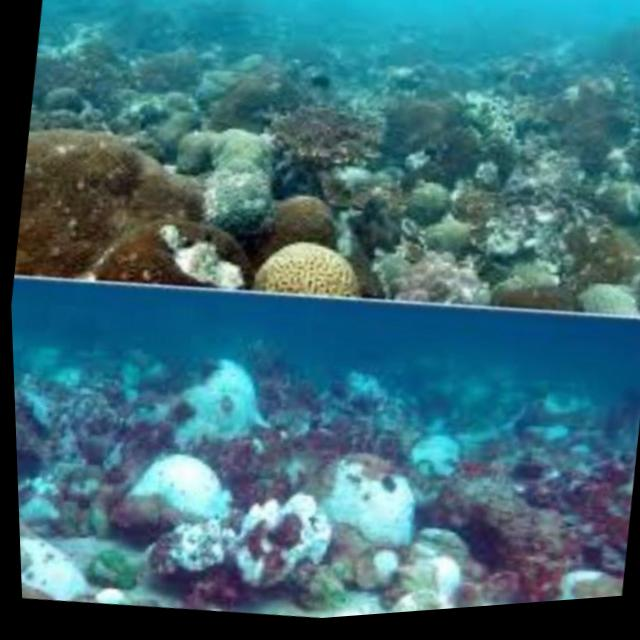Dead Coral: (239, 0, 640, 323)
